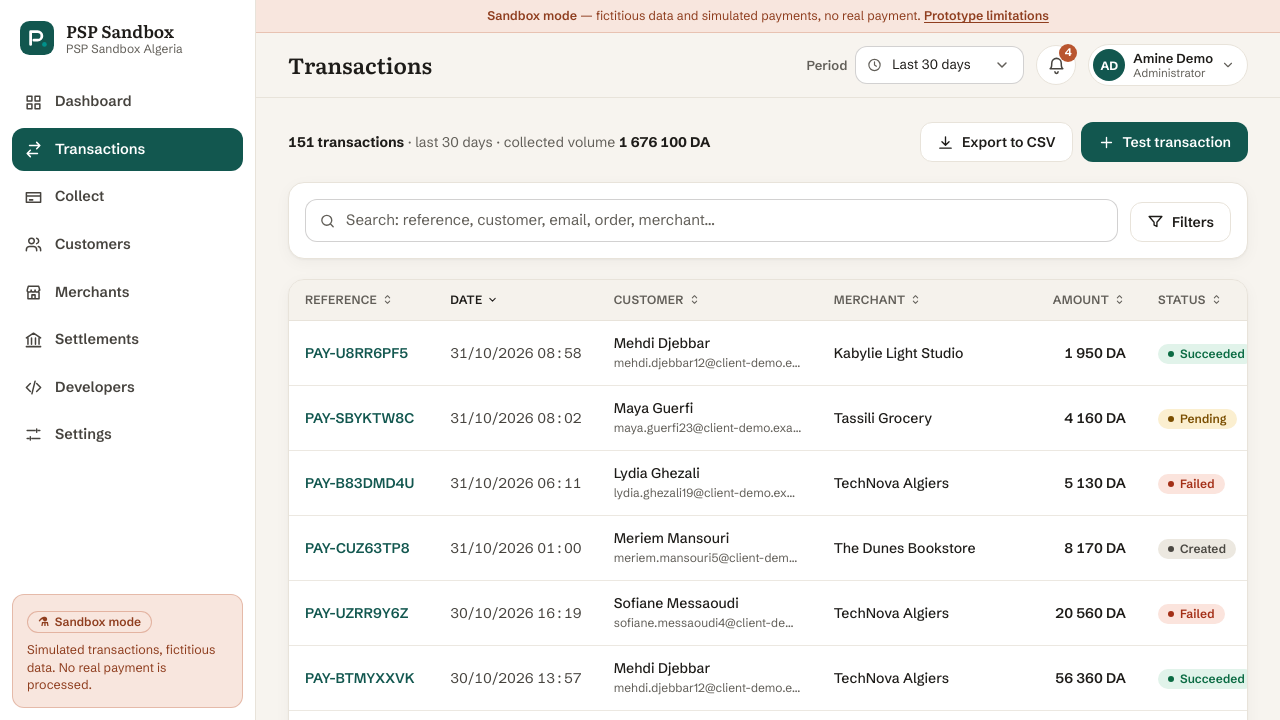
Test: transaction list: search, filters, sorting, export › displays an explicit empty state when nothing matches
The image size is (1280, 720).
Type "zzzz-not-found" into the search field at (712, 220), box x1=305 y1=199 x2=1118 y2=242
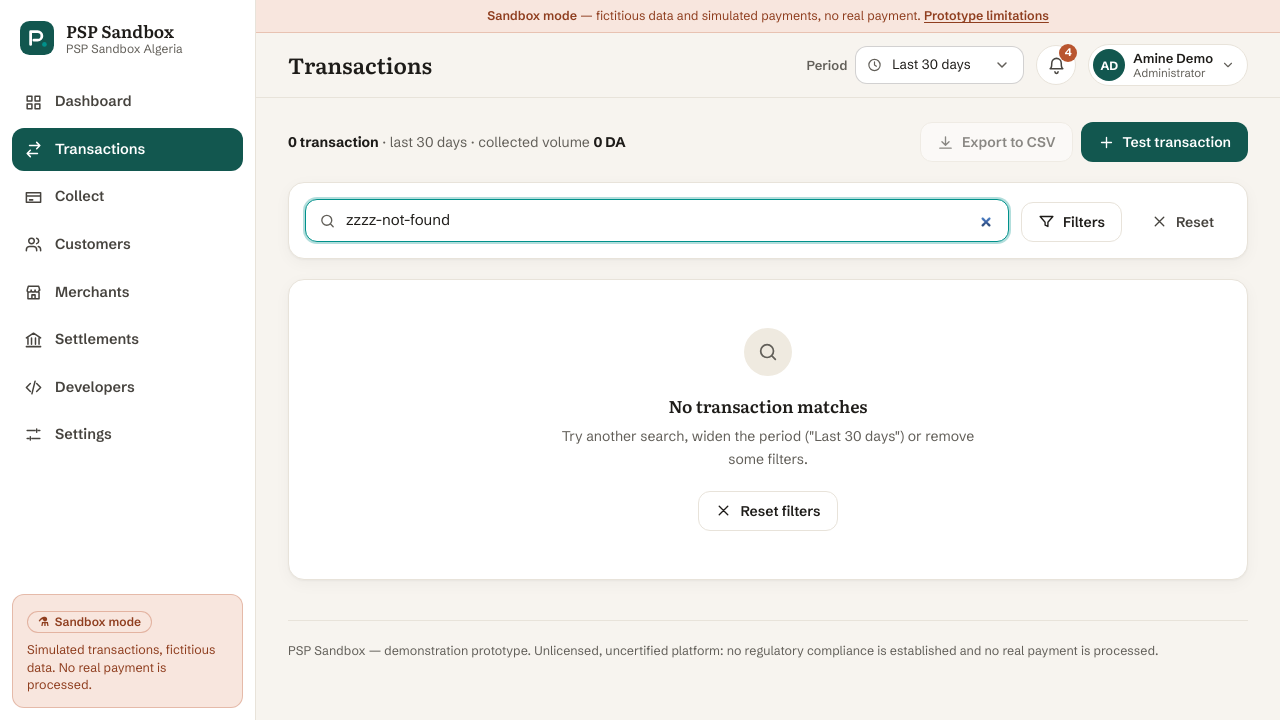
Expected: the heading "No transaction matches" is shown, x1=668 y1=392 x2=868 y2=419
